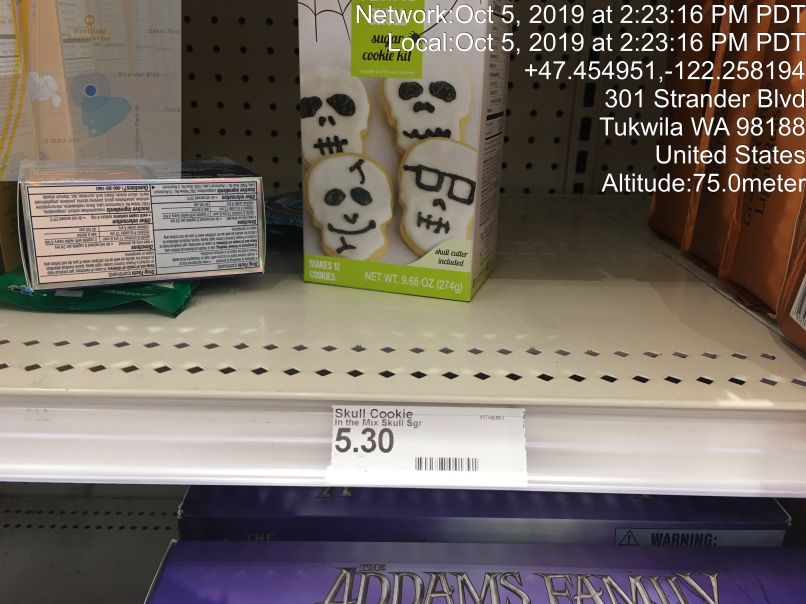Label: (321, 398, 541, 500)
Location: (592, 81, 806, 171)
Skull Cookie: (292, 5, 515, 306)
Time: (348, 1, 806, 56)
